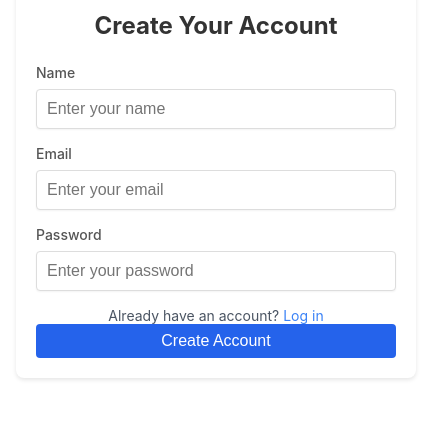
it: SignupForm Component › shows validation error for short password
Fill in form with short password
Type "Test User" into the field labelled "Name" at (216, 109), box top-left (36, 89), bottom-right (396, 129)
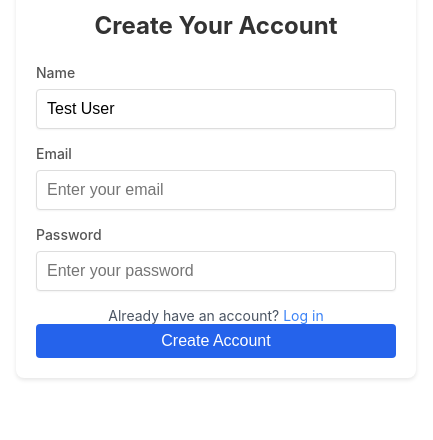
Type "test@example.com" into the field labelled "Email" at (216, 190), box top-left (36, 170), bottom-right (396, 210)
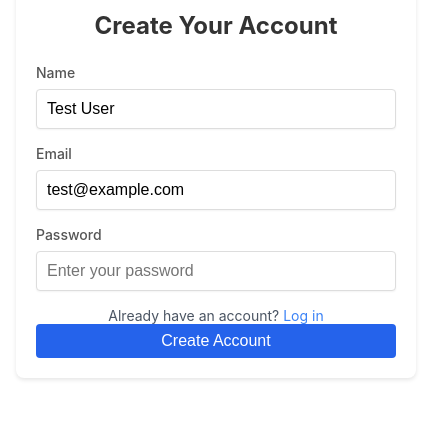
Type "123" into the password field labelled "Password" at (216, 271), box top-left (36, 251), bottom-right (396, 291)
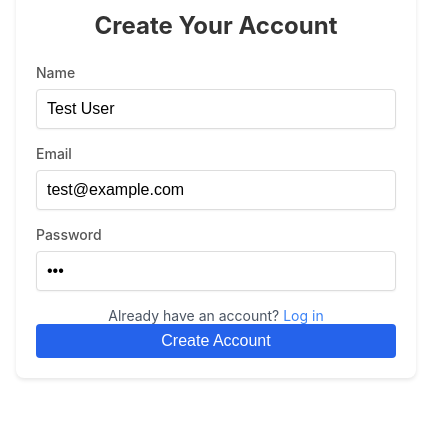
Submit form
Click the button "Create Account" at (216, 341), box top-left (36, 324), bottom-right (396, 358)
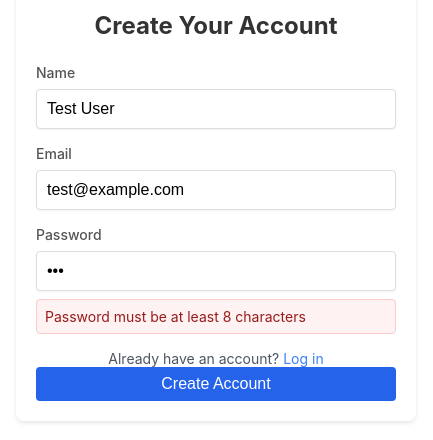
Now the text "Password must be at least 8 characters" is shown, box top-left (36, 299), bottom-right (396, 334)
